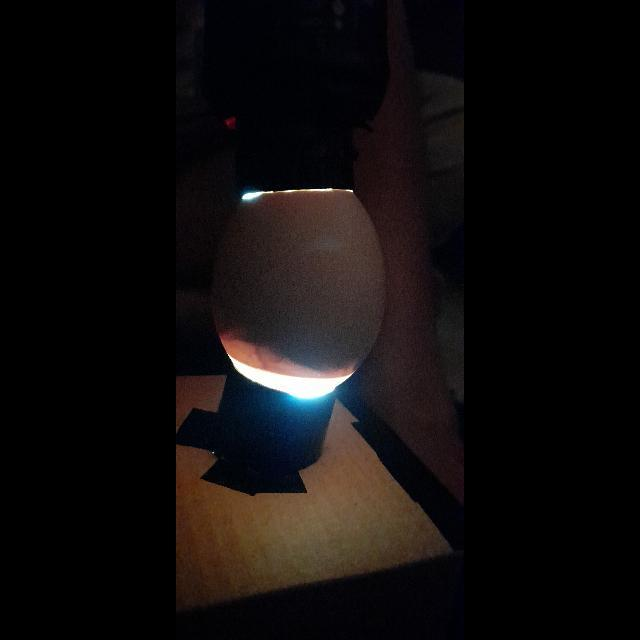Fertile: (210, 184, 386, 396)
